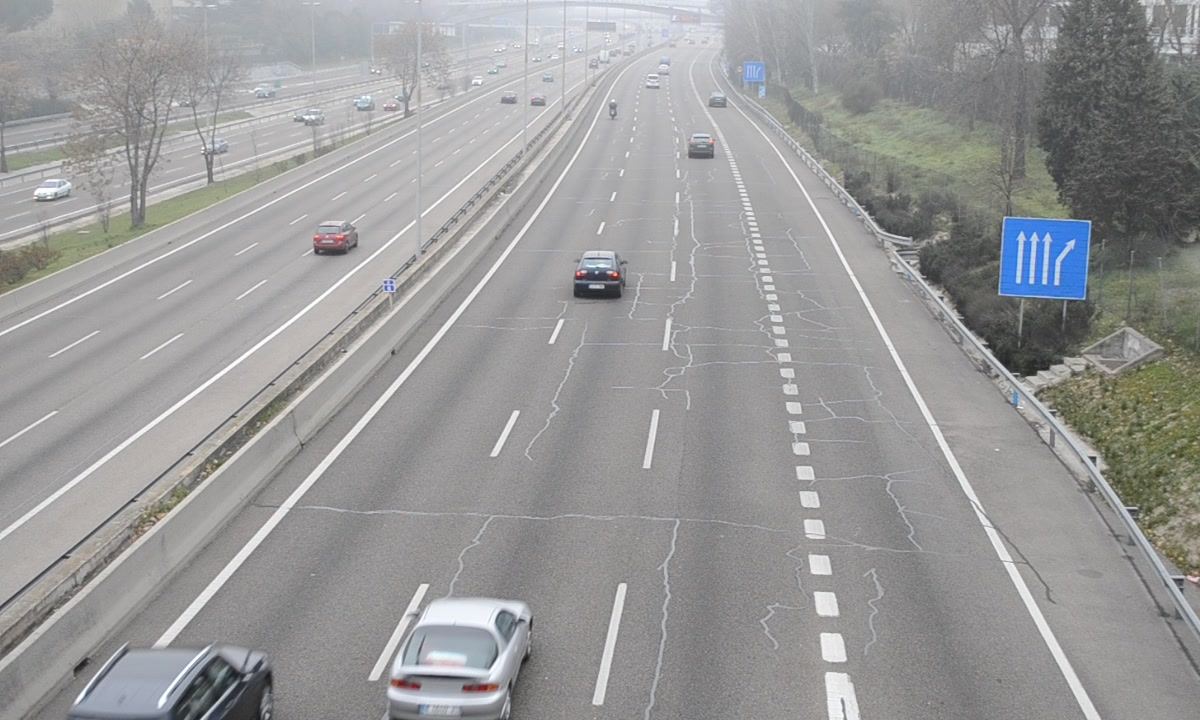car: (384, 600, 535, 720), (573, 251, 627, 300), (689, 132, 715, 159)
motorcycle: (608, 98, 619, 121)
